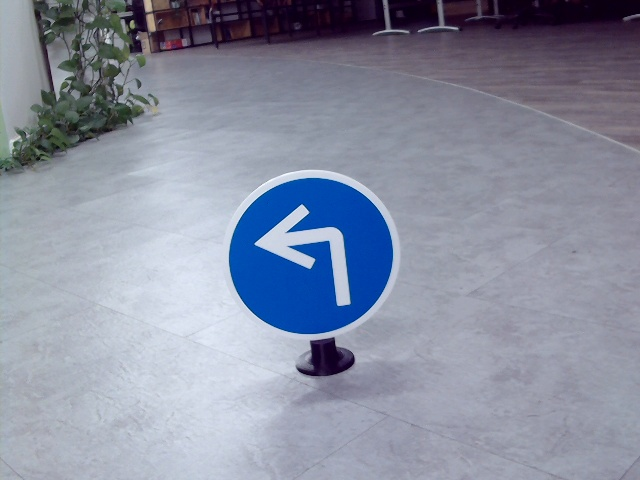turn_left: (256, 200, 359, 306)
